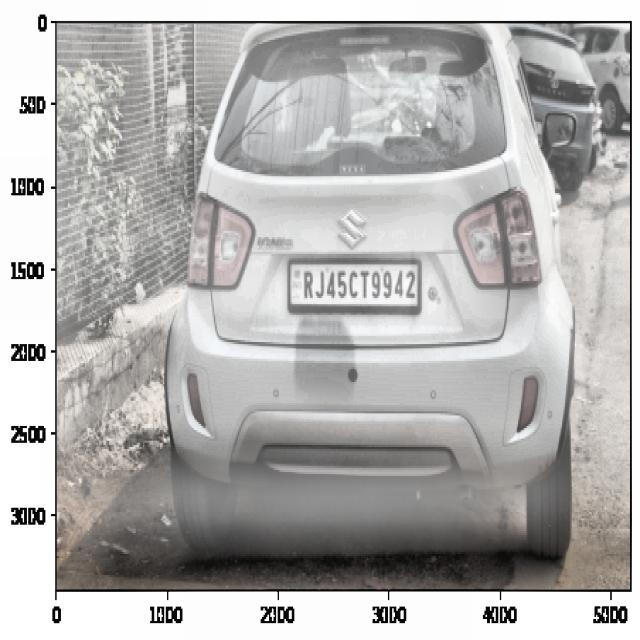license_plate: (297, 256, 420, 311)
